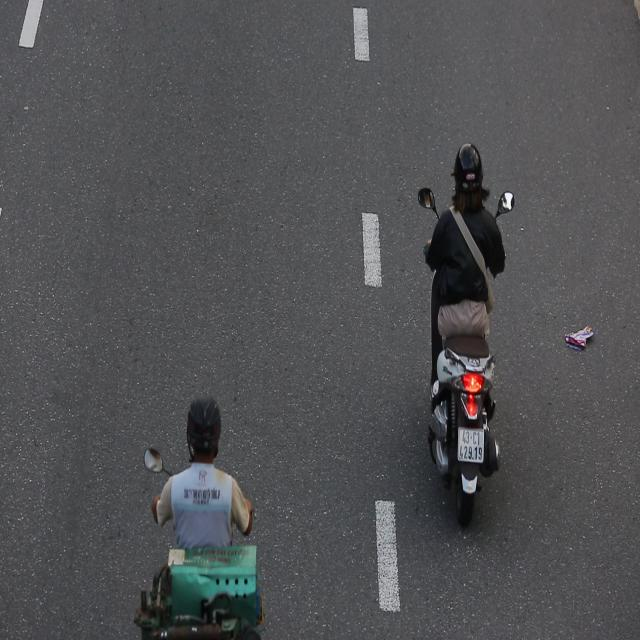motorbike: (411, 125, 523, 540)
